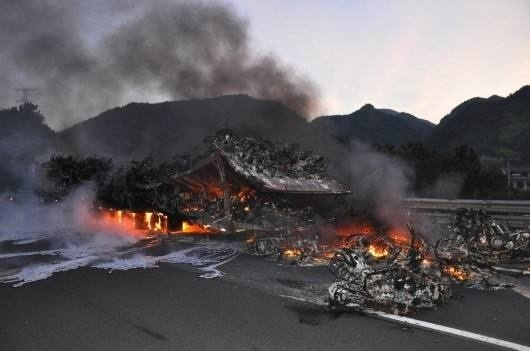fire: (444, 262, 466, 279)
